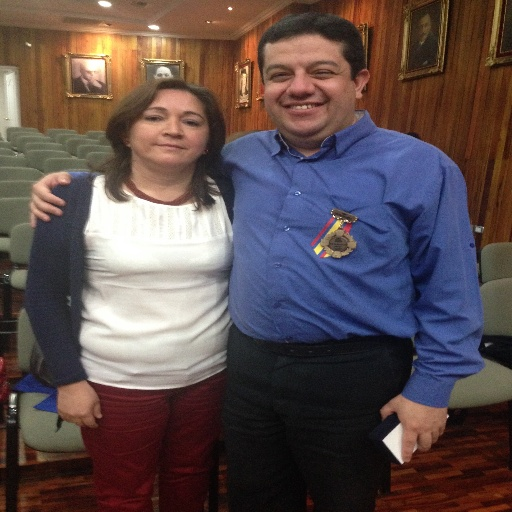hand: (377, 393, 448, 464), (39, 387, 101, 444), (28, 169, 71, 231)
